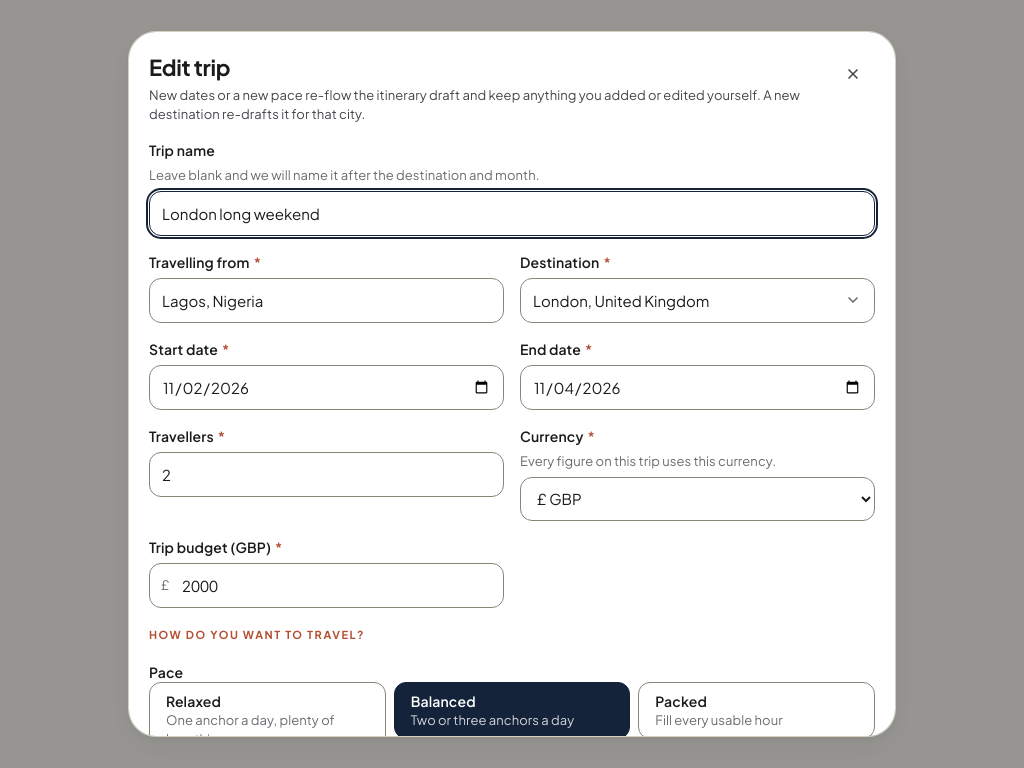
Test case: EditTripDialog when the destination changes › says what the move removes and keeps, with this trip’s counts
Replace the text in the dropdown labelled "Destination*" with "paris" at (698, 300), box [520,278,875,323]
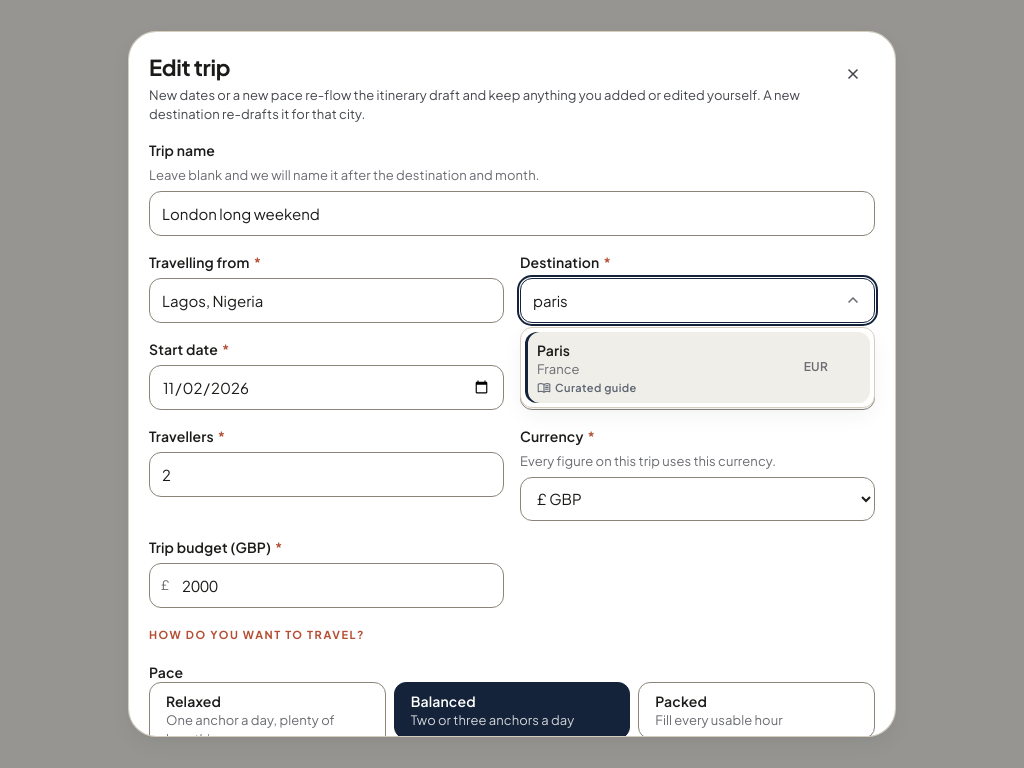
Click the option with aria-label "Paris, France" at (554, 350), box [525,332,870,403]
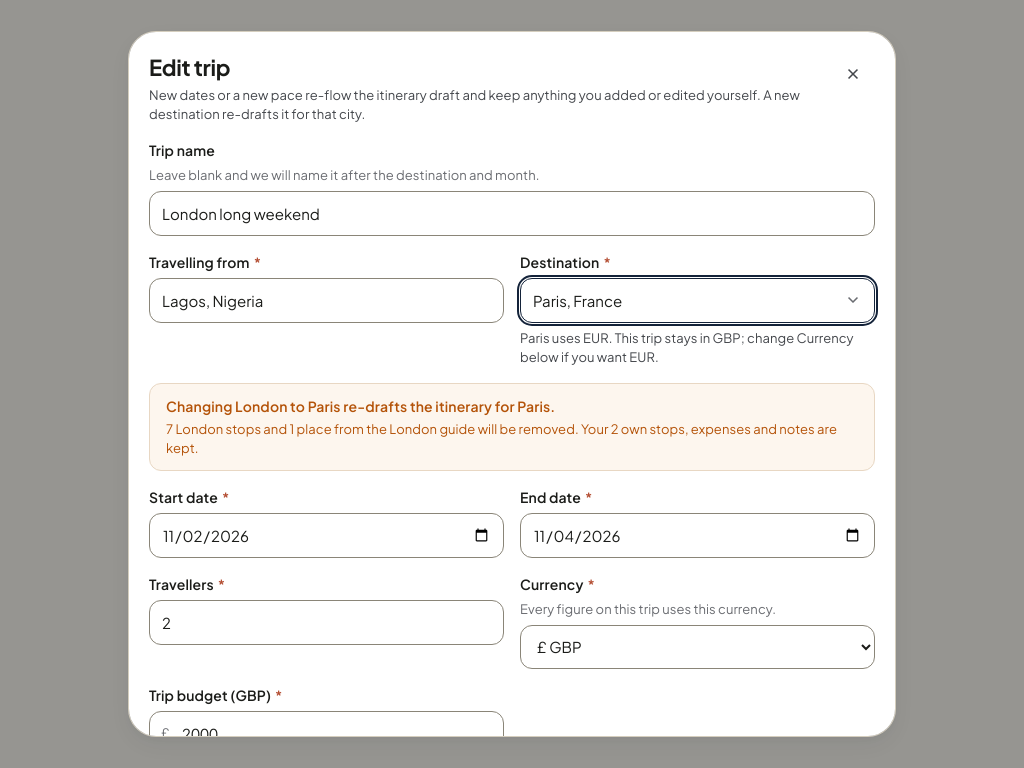
Now the text "Changing London to Paris re-drafts the itinerary for Paris." is shown, box [166,397,555,415]
